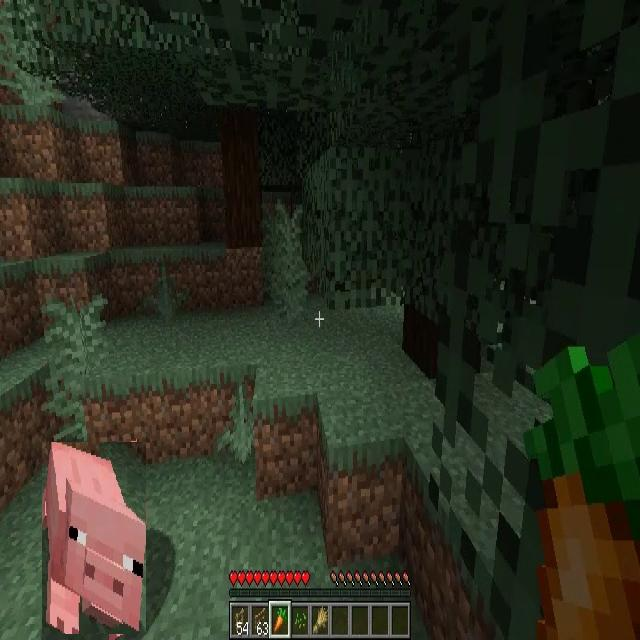pig: (42, 442, 146, 634)
